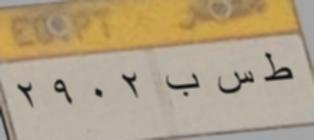0: (89, 82, 108, 109)
2: (13, 75, 39, 114), (119, 68, 142, 105)
9: (51, 74, 76, 115)
Taa: (258, 49, 298, 91)
baa: (162, 70, 203, 101)
seen: (215, 65, 255, 105)
